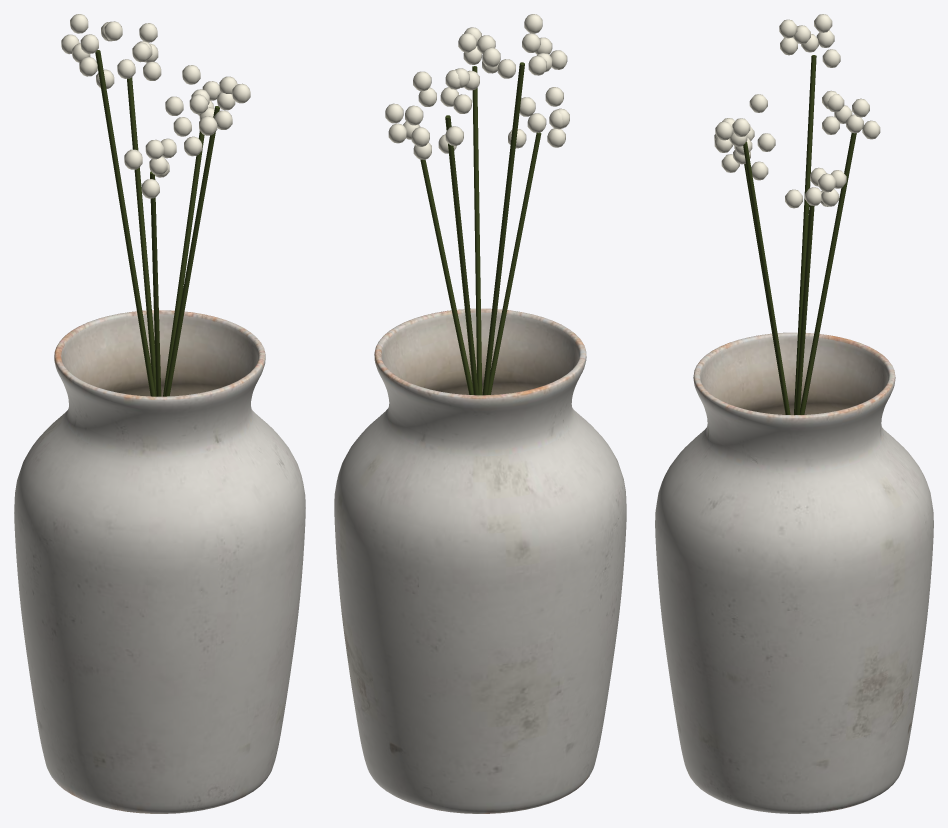
File: PROP_MorningWhite_Vase_Porcelain.glb
The picture shows the model from 3 angles, left to right: view 1: azimuth 30°, elevation 25°; view 2: azimuth 150°, elevation 25°; view 3: azimuth 270°, elevation 25°; orthographic projection. The views are drawn at different scales.
Visible parts, largest first — view 1: PROP_MorningWhite_Vase_Porcelain; view 2: PROP_MorningWhite_Vase_Porcelain; view 3: PROP_MorningWhite_Vase_Porcelain.
Part boxes in pixels (<box>): PROP_MorningWhite_Vase_Porcelain: <box>14,14,305,813</box>; PROP_MorningWhite_Vase_Porcelain: <box>334,14,626,813</box>; PROP_MorningWhite_Vase_Porcelain: <box>655,14,933,813</box>.
Size of the model in its own units: 0.32 by 0.9225 by 0.32.
Materials: 3 (3 with a texture image).
